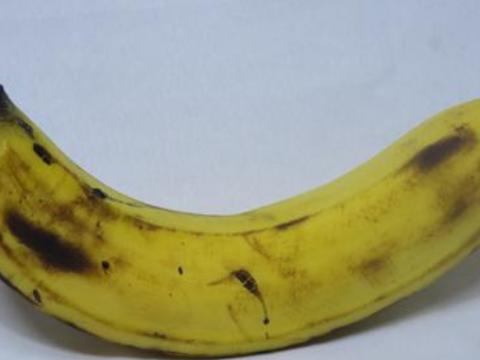ripe: (0, 27, 479, 351)
